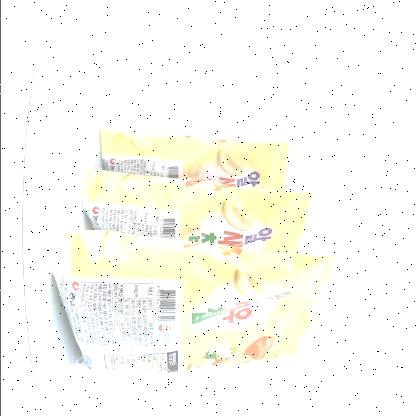Others: (40, 115, 350, 389)
